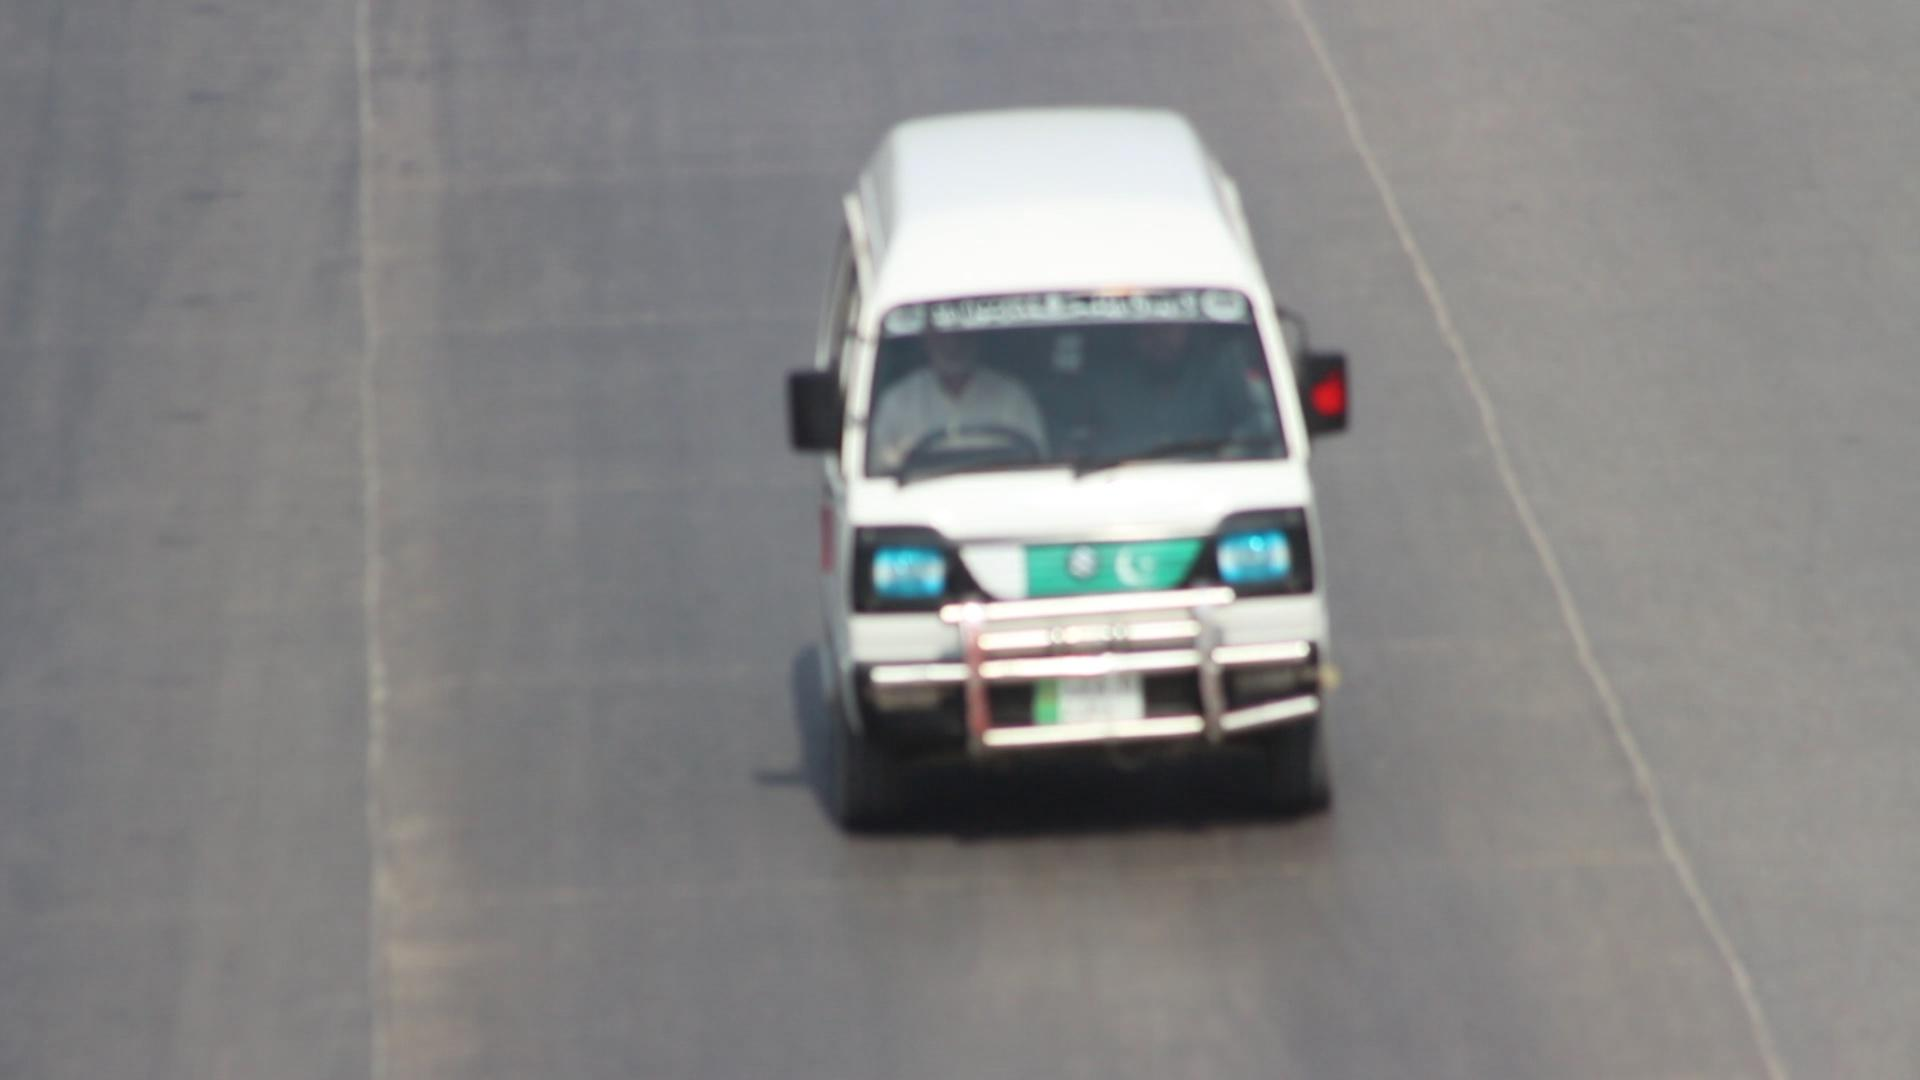windshield: (851, 266, 1307, 500)
